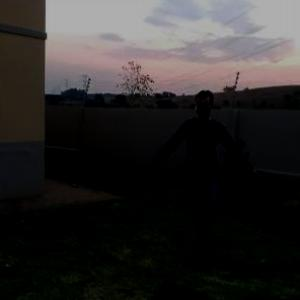land: (150, 87, 266, 268)
